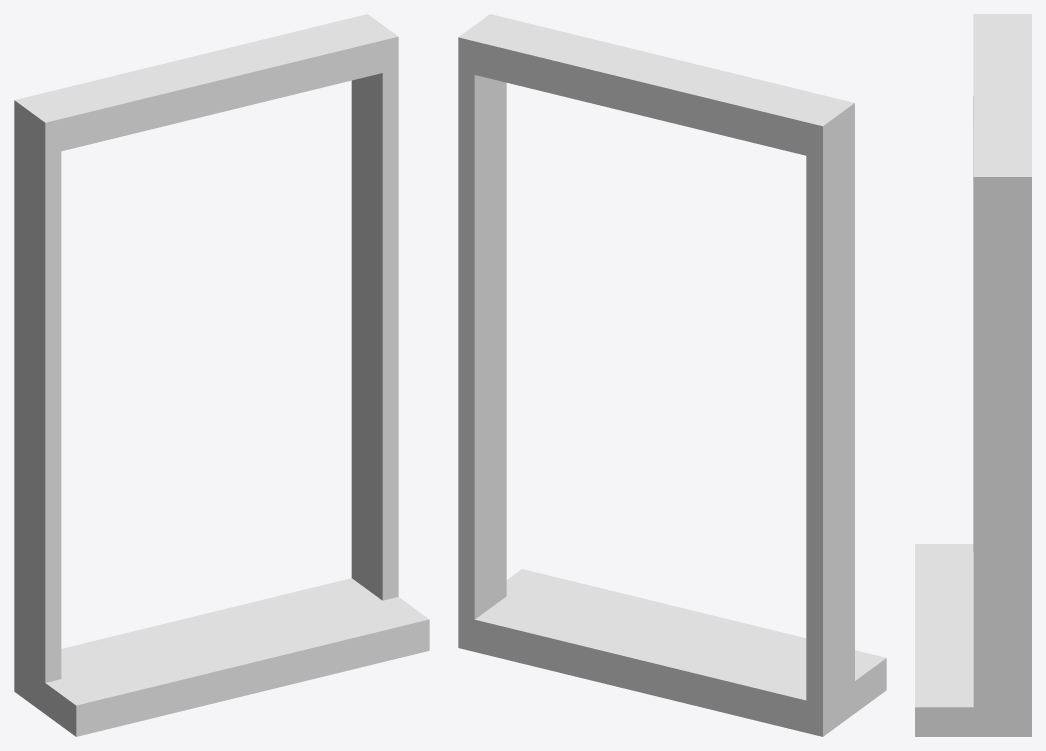
The model's file is Window01.fbx.
3 views of the same model, side by side, from view 1: azimuth 30°, elevation 25°; view 2: azimuth 150°, elevation 25°; view 3: azimuth 270°, elevation 25° (orthographic). The views are drawn at different scales.
Visible parts, largest first — view 1: Window01; view 2: Window01; view 3: Window01.
Boxes of the visible parts, x1,y1,x2,y2 form: Window01: [14, 14, 429, 736]; Window01: [458, 14, 886, 736]; Window01: [915, 14, 1031, 736].
Bounding box in the file's own units: 66 × 106 × 20.
